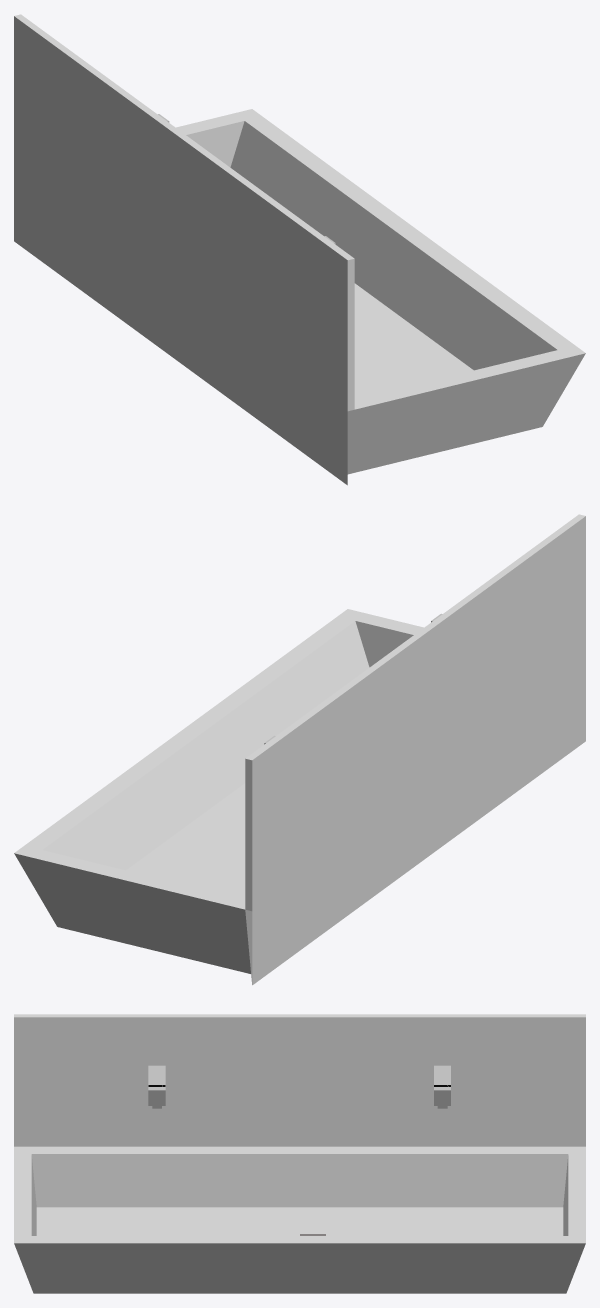
File: Evier.glb
3 renders of one model, top to bottom at view 1: azimuth 30°, elevation 25°; view 2: azimuth 150°, elevation 25°; view 3: azimuth 270°, elevation 25°, orthographic. The views are drawn at different scales.
Visible parts, largest first — view 1: Cube; view 2: Cube; view 3: Cube.
Part boxes in pixels (left/top/right/bottom): Cube: left=14, top=14, right=585, bottom=485; Cube: left=14, top=514, right=585, bottom=985; Cube: left=14, top=1014, right=585, bottom=1293.
Bounding box in the file's own units: 1.65 × 1.49 × 4.
1 material, 1 textured.
